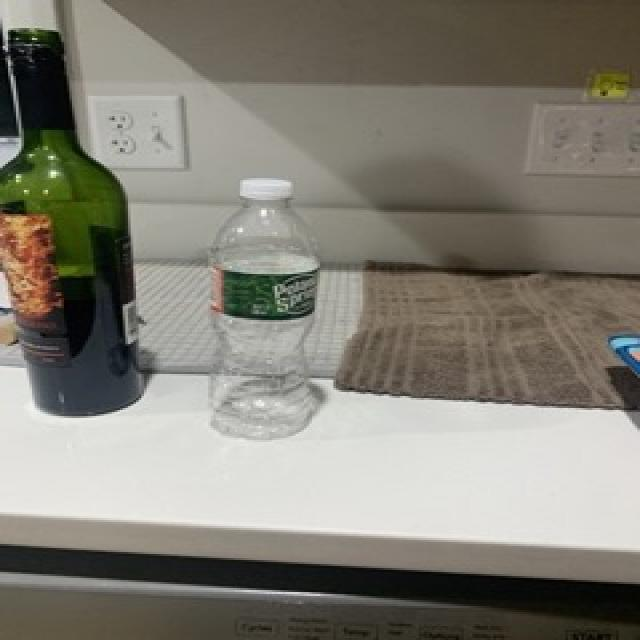water_bottle: (204, 174, 326, 440)
